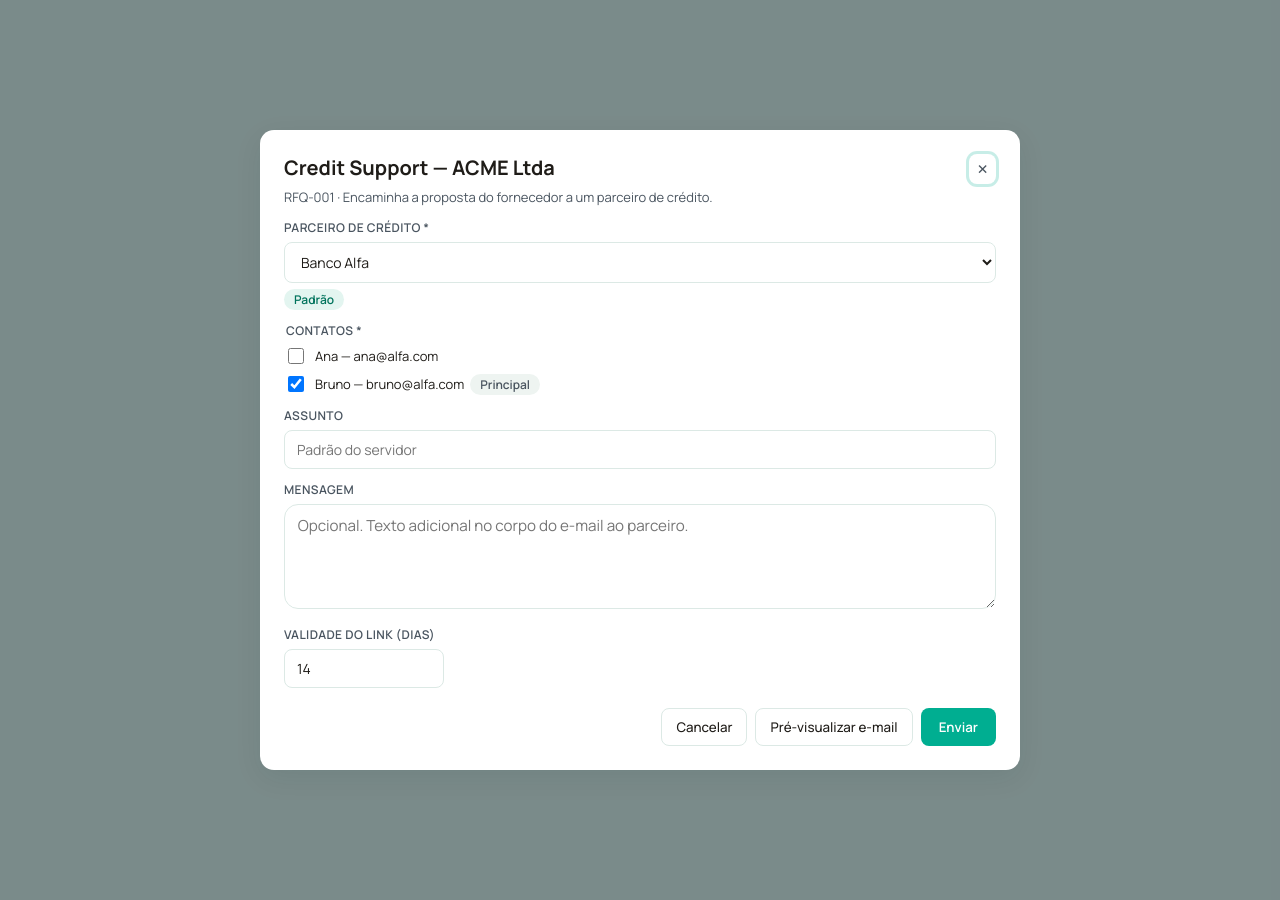
CreditSupportModal › 4. envio feliz: body minimo (sem subject/message vazios) e tela de resultado com o link
Check: the text "Bruno — bruno@alfa.com" is shown, box [315, 374, 540, 395]
Click the button "Enviar": (958, 727) [921, 708, 996, 746]
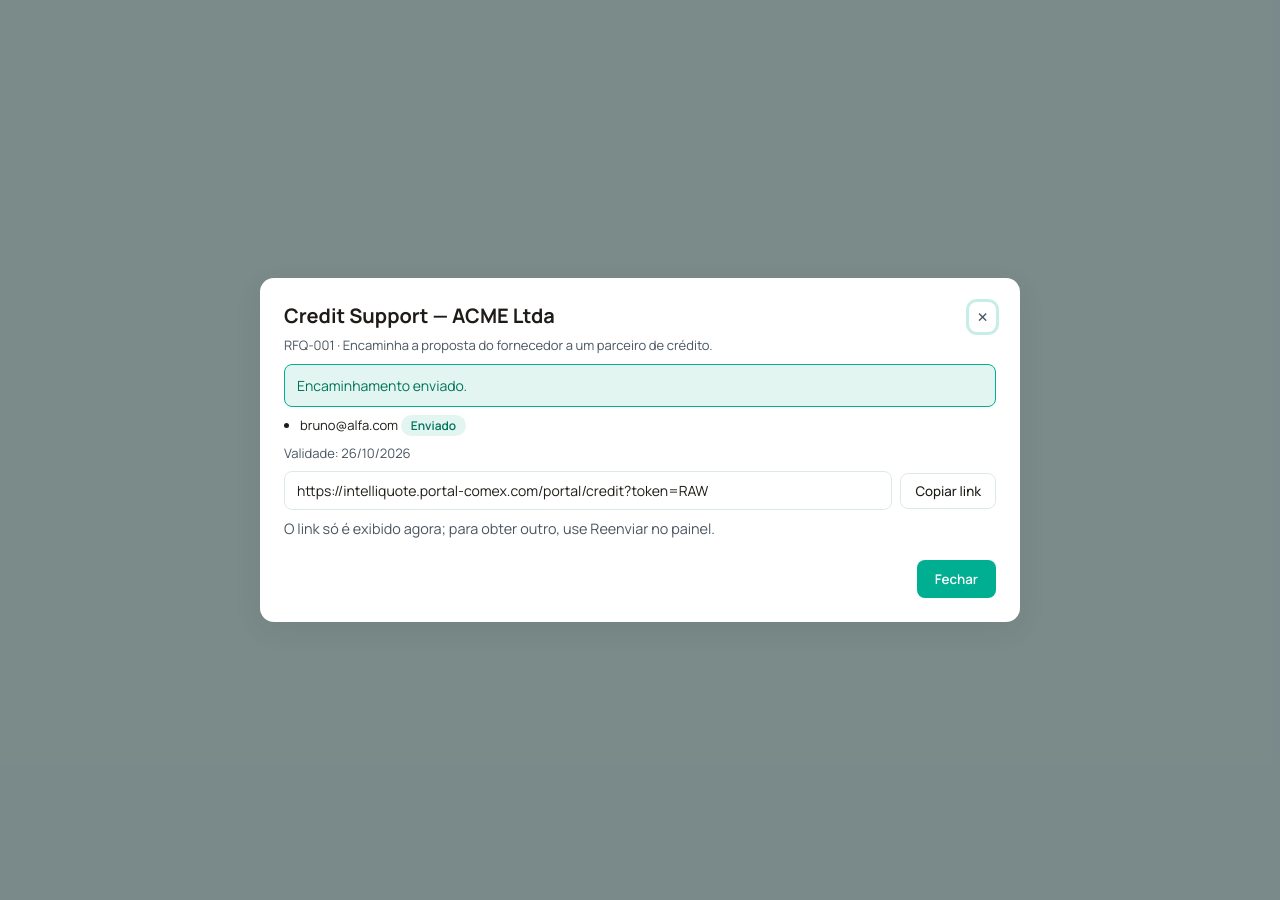
Check: the text "Encaminhamento enviado." is shown, box [284, 364, 996, 407]
Check: the field named "Link do portal do parceiro" holds "https://intelliquote.portal-comex.com/portal/credit?token=RAW", box [284, 471, 892, 510]
Check: the text "Enviado" is shown, box [401, 415, 466, 436]
